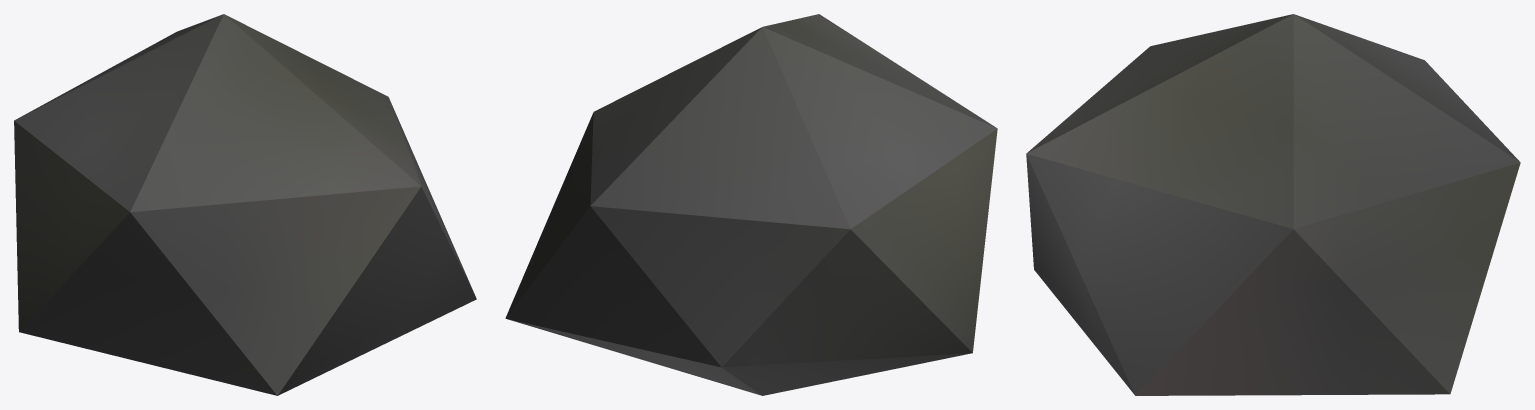
The model's file is SM_Fuel_Coal.fbx.
3 renders of one model, left to right at view 1: azimuth 30°, elevation 25°; view 2: azimuth 150°, elevation 25°; view 3: azimuth 270°, elevation 25°, orthographic. The views are drawn at different scales.
Parts seen in each view (by area): view 1: SM_Fuel_Coal; view 2: SM_Fuel_Coal; view 3: SM_Fuel_Coal.
Boxes of the visible parts, x1=… form: SM_Fuel_Coal: x1=14, y1=14, x2=476, y2=395; SM_Fuel_Coal: x1=505, y1=14, x2=997, y2=395; SM_Fuel_Coal: x1=1026, y1=14, x2=1520, y2=395.
Bounding box in the file's own units: 7.01 × 6.29 × 7.41.
1 material, 1 textured.
